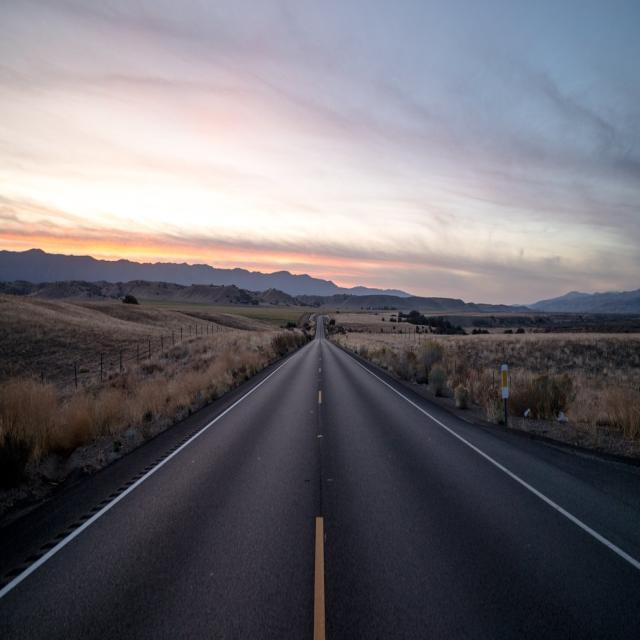Clean road: (0, 290, 640, 640)
